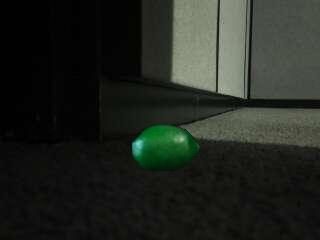Lime: (131, 125, 200, 172)
